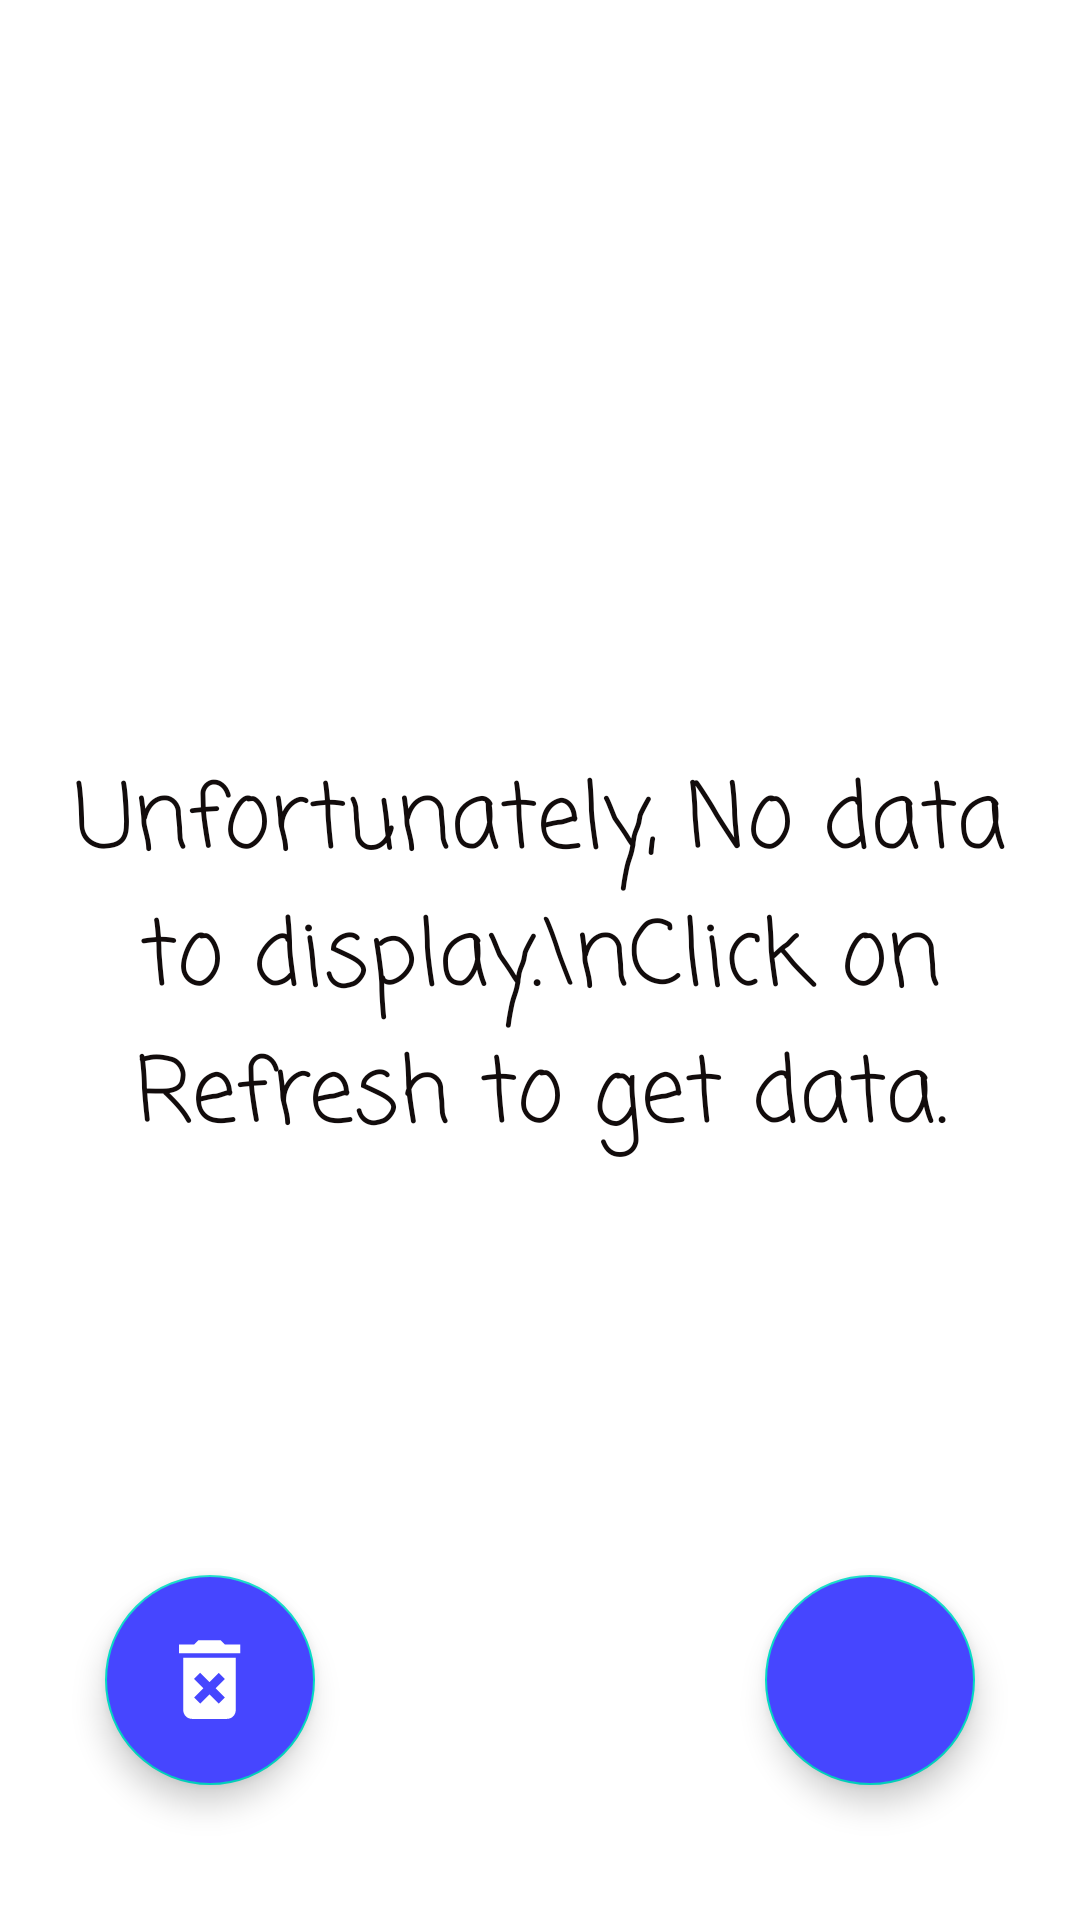

Icons on this 1080*1920 Android screen, each with its box as detection(x1, y1, x2, y2):
delete: detection(105, 1575, 315, 1785)
